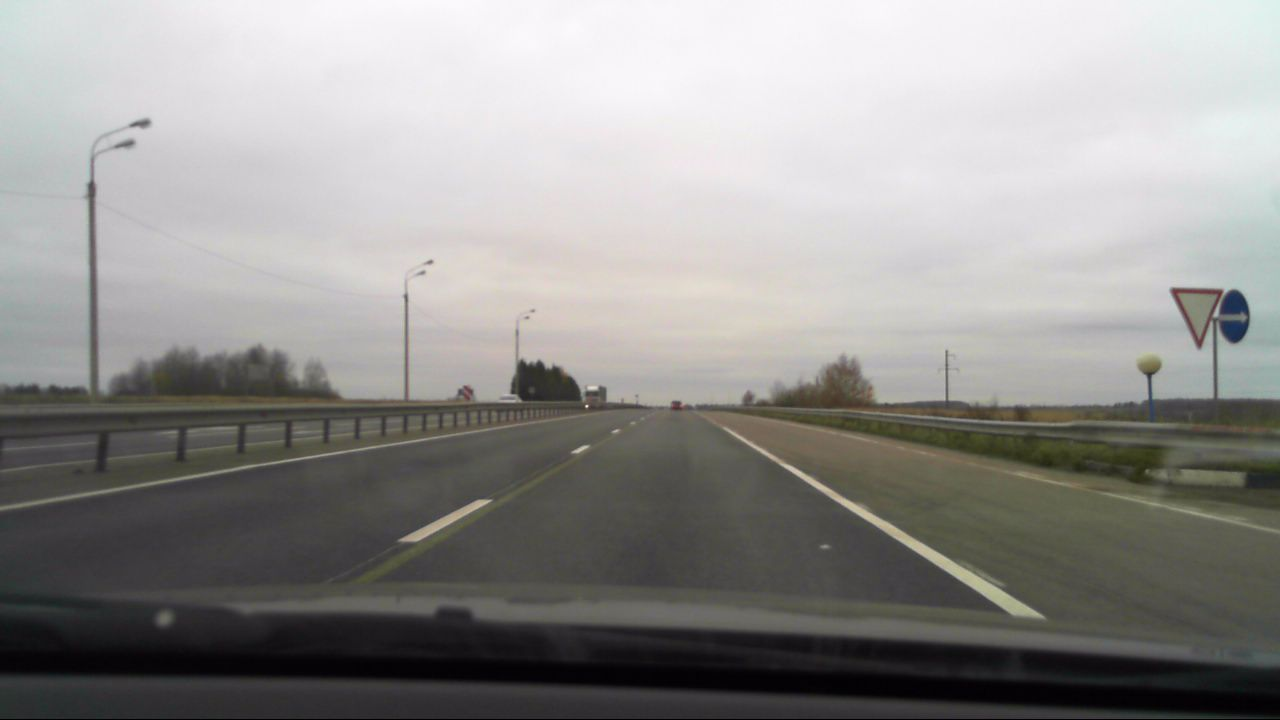Turn Right: (1220, 288, 1249, 343)
